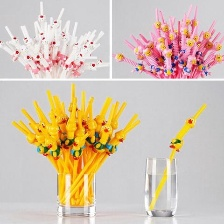drinking_straw: (145, 97, 212, 219)
glass: (141, 153, 180, 221), (52, 171, 99, 221)
